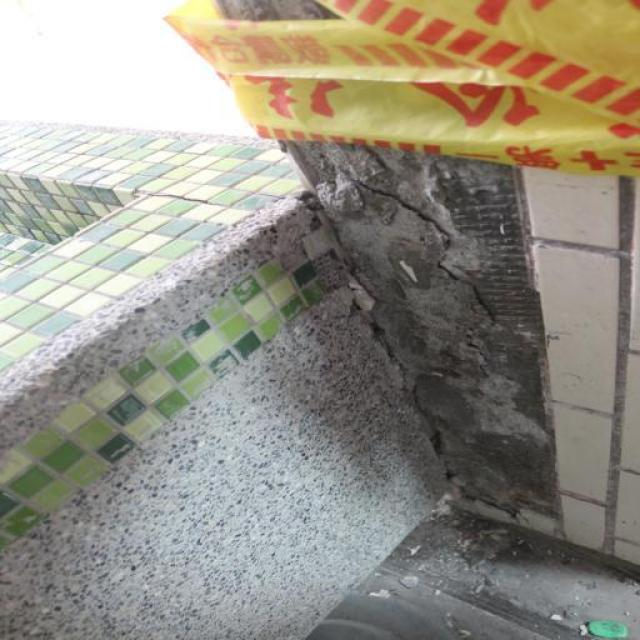D10: (289, 141, 559, 534)
